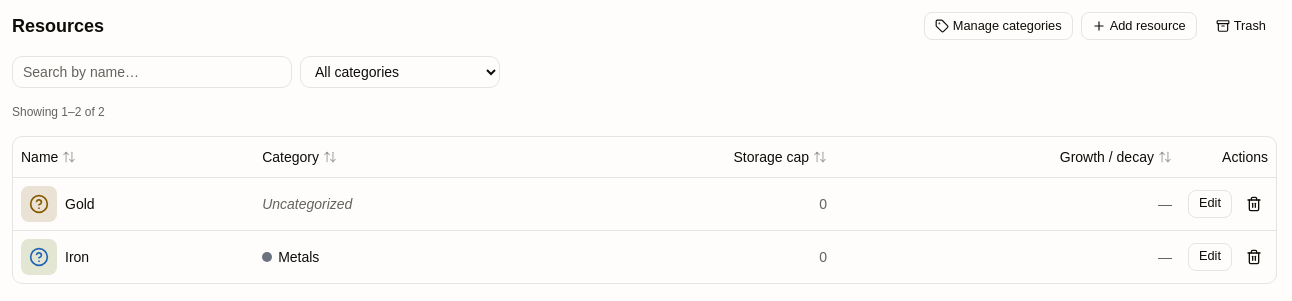
ResourcesConfigPanel › filters to resources with no category via the Uncategorized option
The image size is (1292, 301).
Expected: the text "Gold" is shown, [65,194,95,214]
Expected: the text "Iron" is shown, [65,246,89,266]
Select "Uncategorized" in the dropdown named "Filter by category" at (400, 72), box [300,56,500,88]
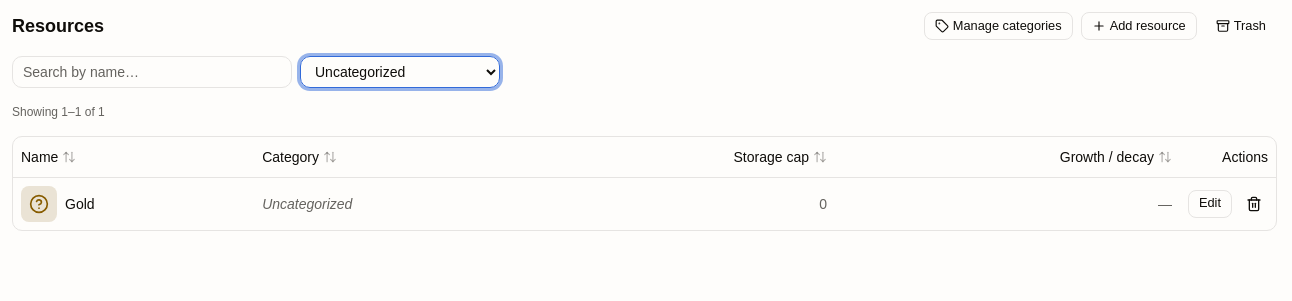
Expected: the text "Gold" is shown, [65,194,95,214]
Result: the text "Iron" is gone
